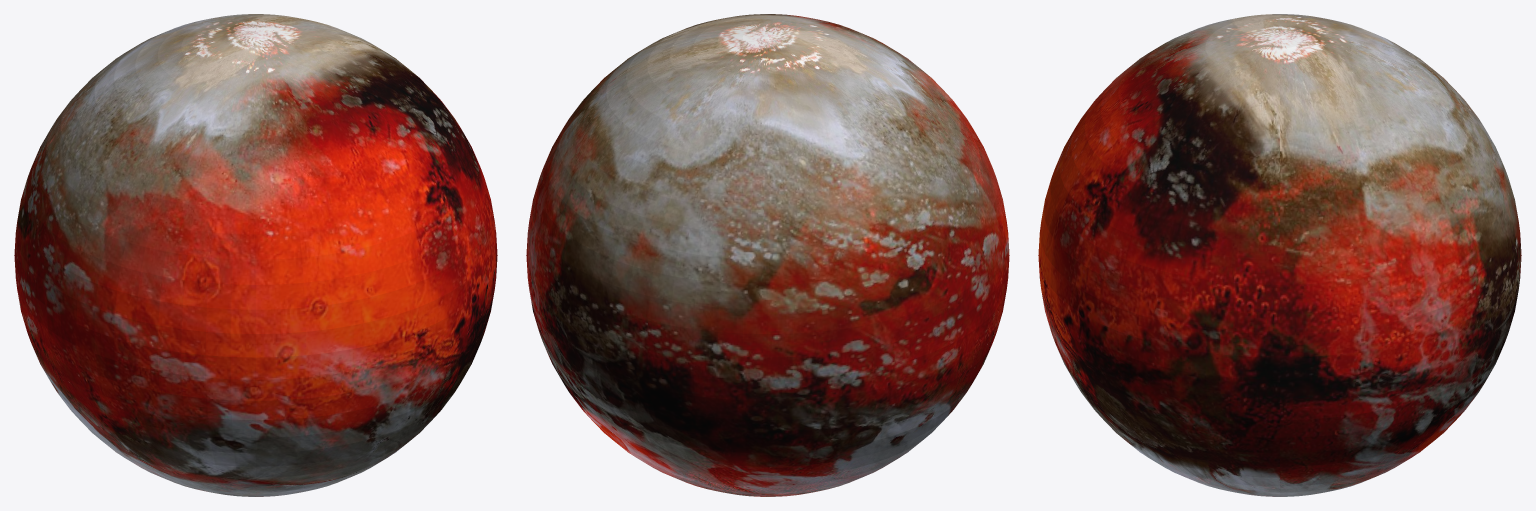
The model's file is Hot.fbx.
The picture shows the model from 3 angles, left to right: view 1: azimuth 30°, elevation 25°; view 2: azimuth 150°, elevation 25°; view 3: azimuth 270°, elevation 25°; orthographic projection.
Visible parts, largest first — view 1: Hot; view 2: Hot; view 3: Hot.
Part boxes in pixels (<box>): Hot: <box>14,14,497,496</box>; Hot: <box>526,14,1009,496</box>; Hot: <box>1038,14,1521,496</box>.
Bounding box in the file's own units: 2202 × 2202 × 2202.
Materials: 1 (1 with a texture image).
